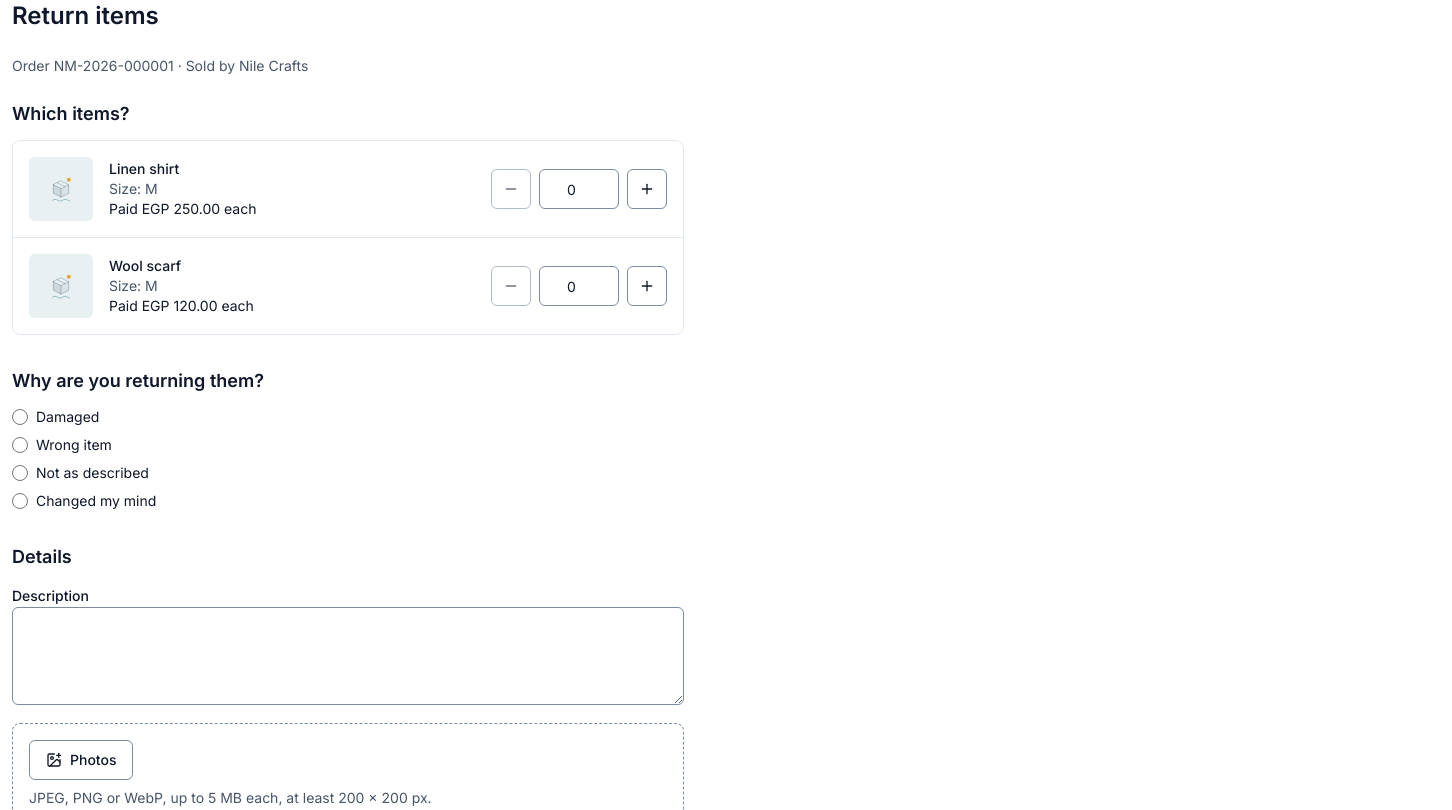
Scenario: request a return (spec 01 SF-26) › card order, "Changed my mind": the fee note, the estimate, no payout, the body
The image size is (1452, 810).
Click the button named "Increase quantity, Linen shirt".
click(647, 189)  # box [627, 169, 667, 209]
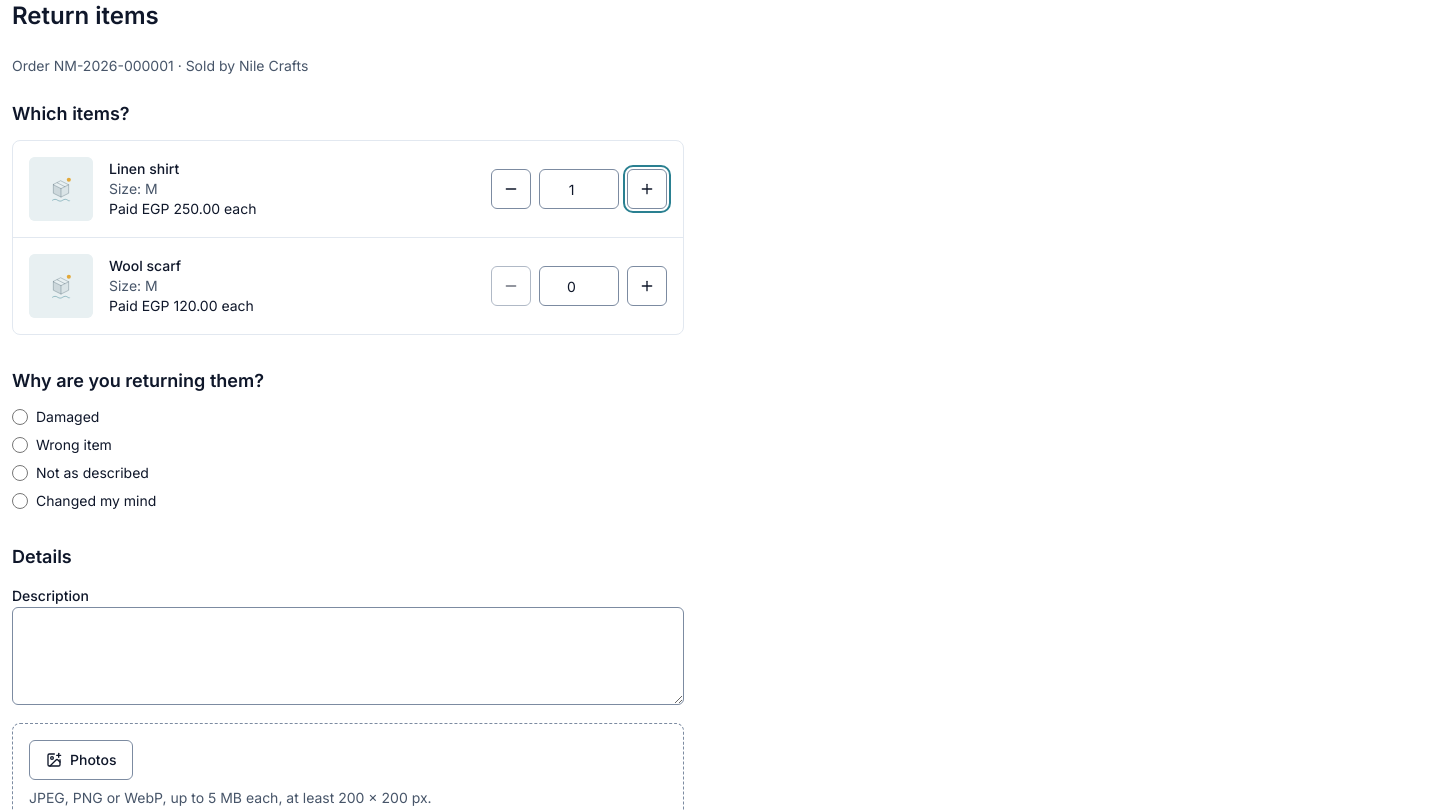
Click the radio button labelled "Changed my mind".
click(20, 501)  # box [12, 493, 28, 509]
(page scrolled)
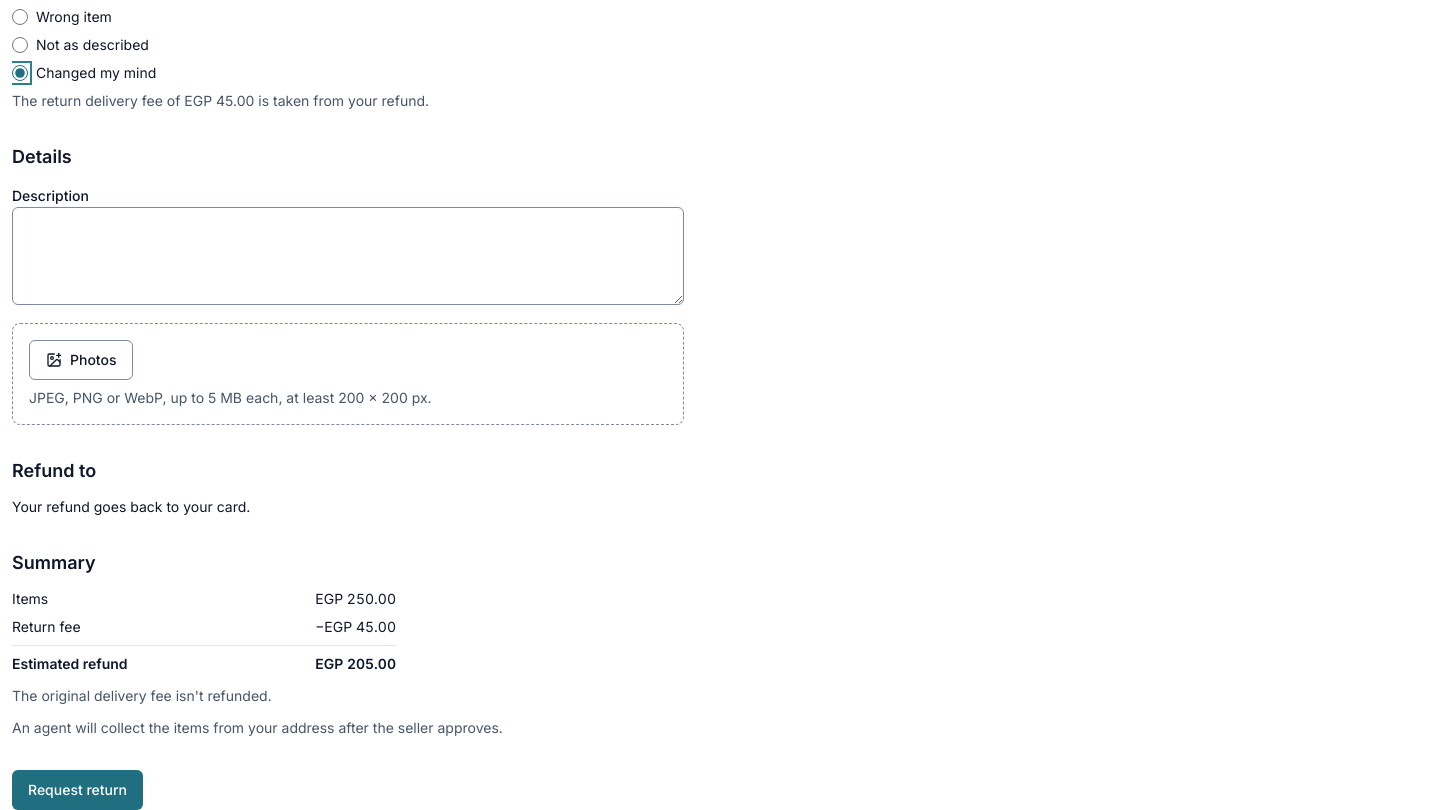
Expected: the text "Your refund goes back to your card." is shown, [12, 498, 250, 515]
Click the button "Request return".
click(78, 790)  # box [12, 770, 143, 809]
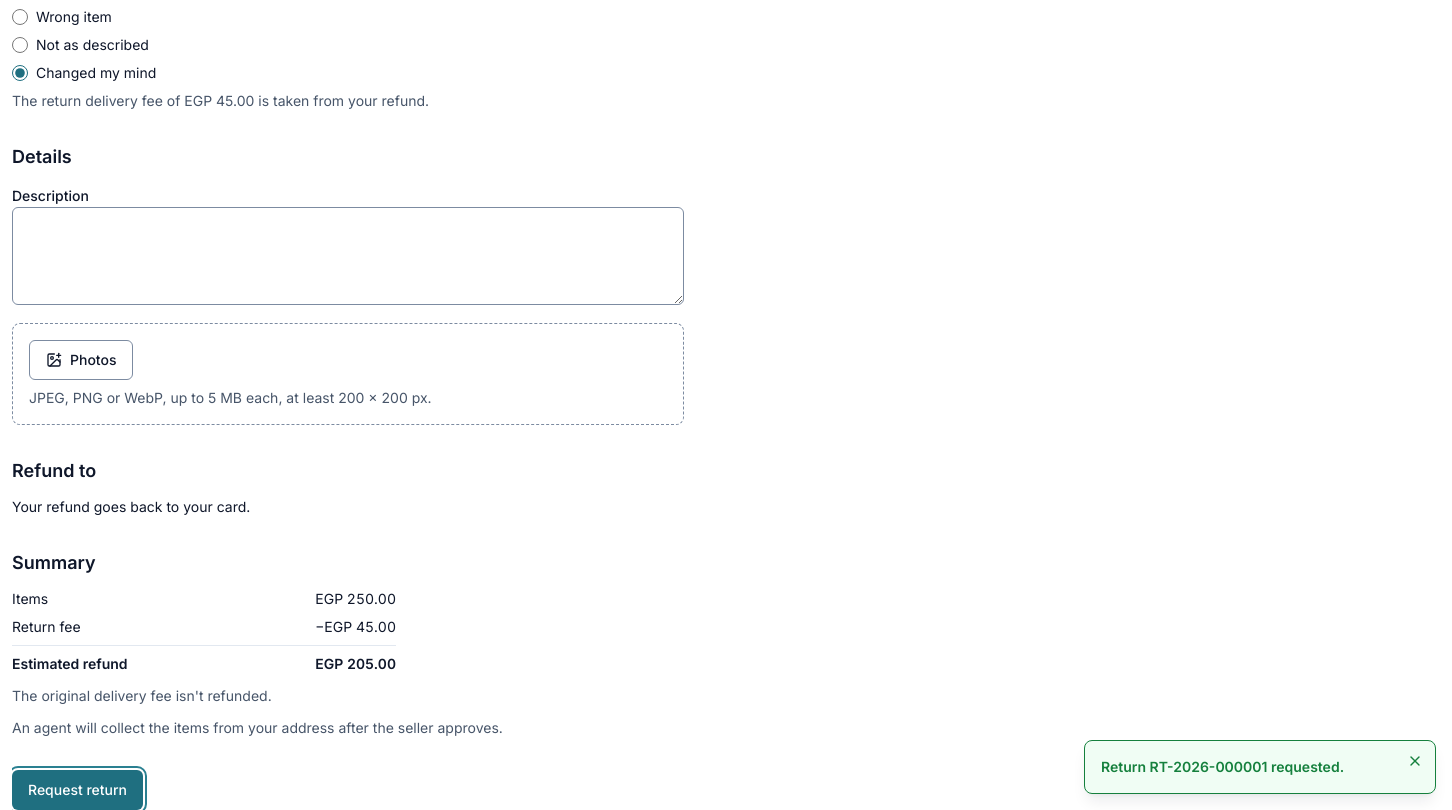
Expected: the text "Return RT-2026-000001 requested." is shown, [1101, 758, 1344, 775]
